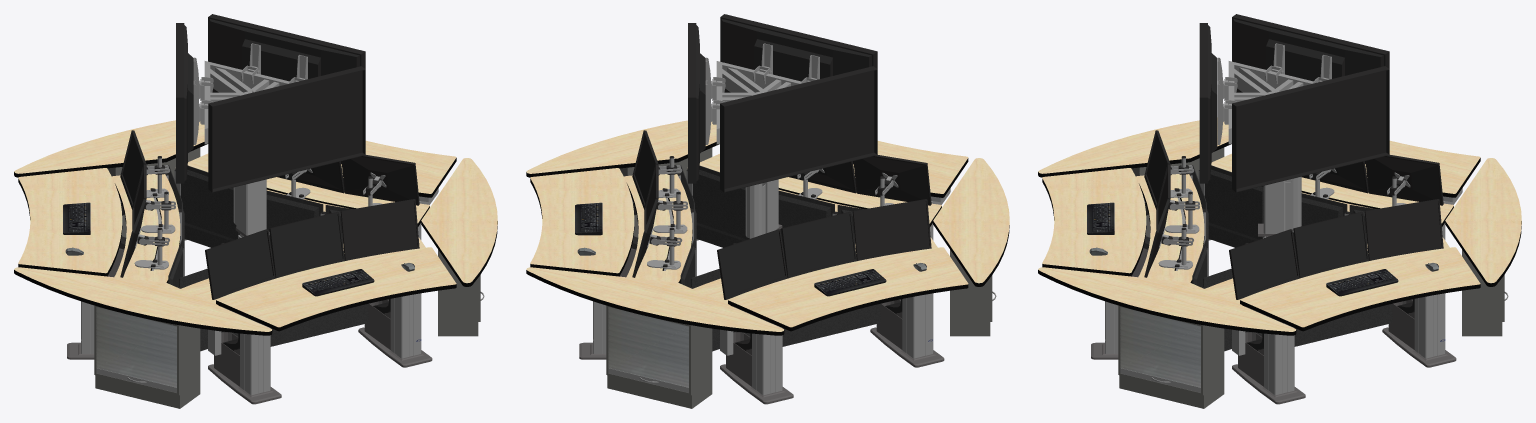
Rendered from desk44.obj.
3 renders of one model, left to right at view 1: azimuth 30°, elevation 25°; view 2: azimuth 150°, elevation 25°; view 3: azimuth 270°, elevation 25°, orthographic.
Visible parts, largest first — view 1: Mesh263_Component_8_3_Component_7_1_Model; view 2: Mesh263_Component_8_3_Component_7_1_Model; view 3: Mesh263_Component_8_3_Component_7_1_Model.
Part boxes in pixels (<box>): Mesh263_Component_8_3_Component_7_1_Model: <box>14,14,497,408</box>; Mesh263_Component_8_3_Component_7_1_Model: <box>526,14,1009,408</box>; Mesh263_Component_8_3_Component_7_1_Model: <box>1038,14,1521,408</box>.
Bounding box in the file's own units: 3.23 × 1.73 × 2.97.
15 materials, 4 textured.
